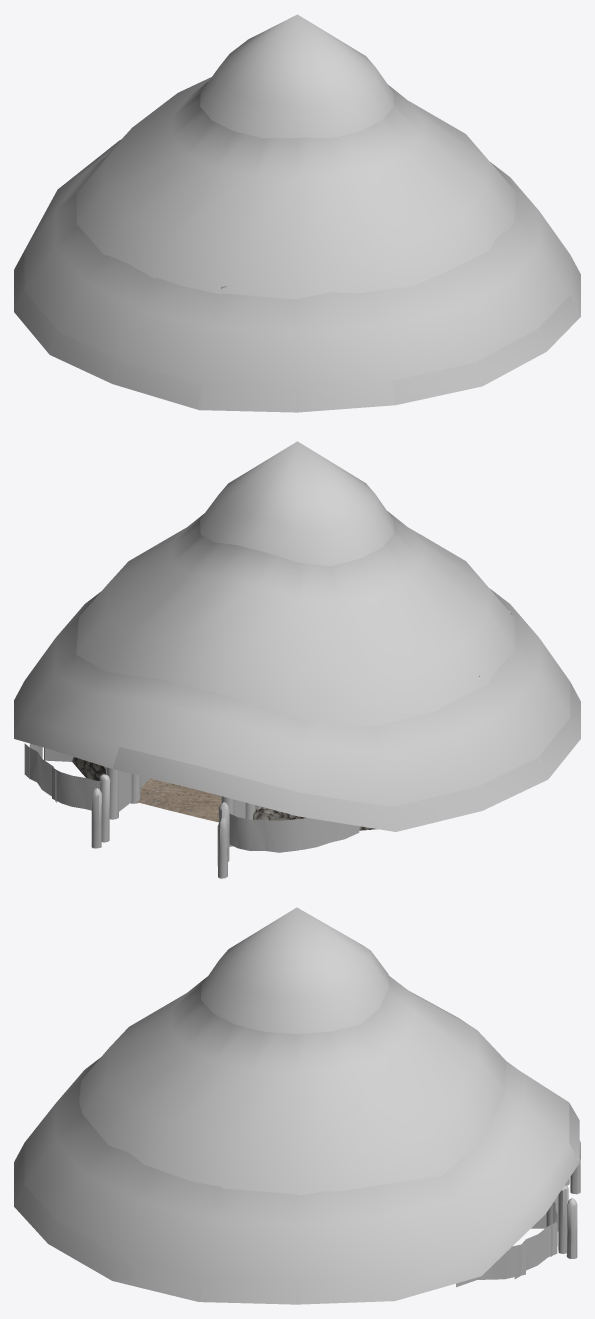
Rendered from RoundHut_2.fbx.
3 views of the same model, one above another, from view 1: azimuth 30°, elevation 25°; view 2: azimuth 150°, elevation 25°; view 3: azimuth 270°, elevation 25° (orthographic).
Visible parts, largest first — view 1: Alpha; view 2: Alpha, Wood, Ground, Stone; view 3: Alpha, Wood.
Part boxes in pixels (x1,y1,x2,y2): Alpha: (14,14,580,412); Alpha: (14,441,580,852); Wood: (44,610,511,878); Ground: (136,778,221,822); Stone: (72,757,377,830); Alpha: (14,907,579,1304); Wood: (474,1140,580,1258).
Bounding box in the file's own units: 2419 × 1483 × 2387.
